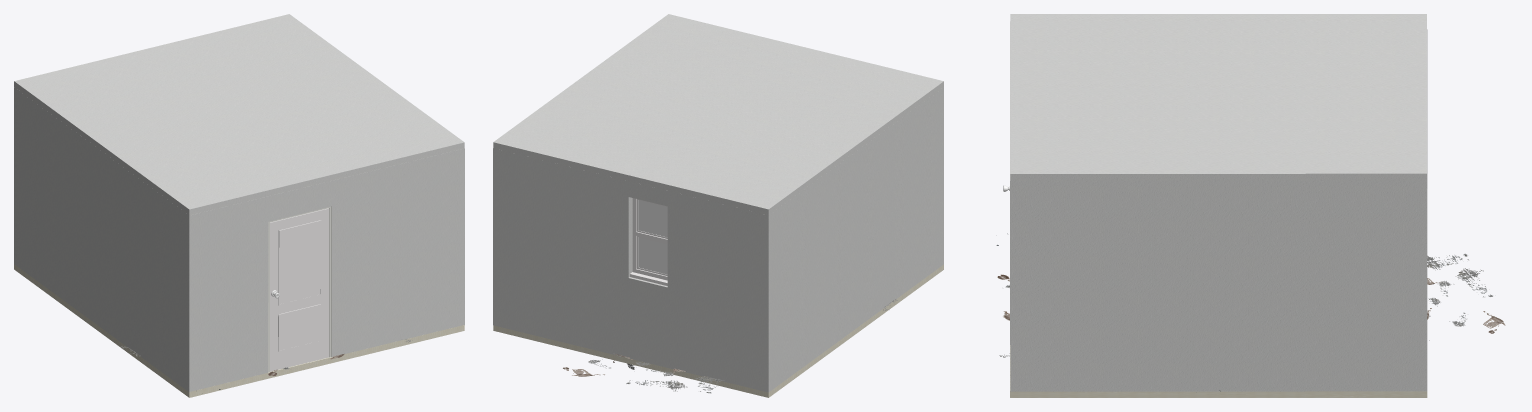
File: FloorPlan429_physics.fbx
The picture shows the model from 3 angles, left to right: view 1: azimuth 30°, elevation 25°; view 2: azimuth 150°, elevation 25°; view 3: azimuth 270°, elevation 25°; orthographic projection. The views are drawn at different scales.
Visible parts, largest first — view 1: FP429:Walls, FP429:Ceiling, FP429:Door.021, FP429:Floor, FP429:DoorFrame.021; view 2: FP429:Walls, FP429:Ceiling, FP429:Floor, FP429:polySurface122, FP429:polySurface126, FP429:Decals.012; view 3: FP429:Walls, FP429:Ceiling, FP429:Floor, FP429:Decals.012.
Part boxes in pixels (box(x1,y1,x2,y2)): FP429:Walls: box(14, 87, 464, 391); FP429:Ceiling: box(14, 14, 464, 215); FP429:Door.021: box(270, 208, 329, 371); FP429:Floor: box(14, 264, 464, 397); FP429:DoorFrame.021: box(268, 206, 331, 372); FP429:Walls: box(493, 87, 943, 392); FP429:Ceiling: box(493, 14, 943, 215); FP429:Floor: box(493, 264, 943, 397); FP429:polySurface122: box(638, 200, 667, 274); FP429:polySurface126: box(630, 198, 667, 285); FP429:Decals.012: box(615, 354, 724, 393); FP429:Walls: box(1010, 21, 1427, 391); FP429:Ceiling: box(1010, 14, 1426, 180); FP429:Floor: box(1010, 345, 1427, 397); FP429:Decals.012: box(1427, 253, 1492, 340).
Bounding box in the file's own units: 430 × 278 × 552.
